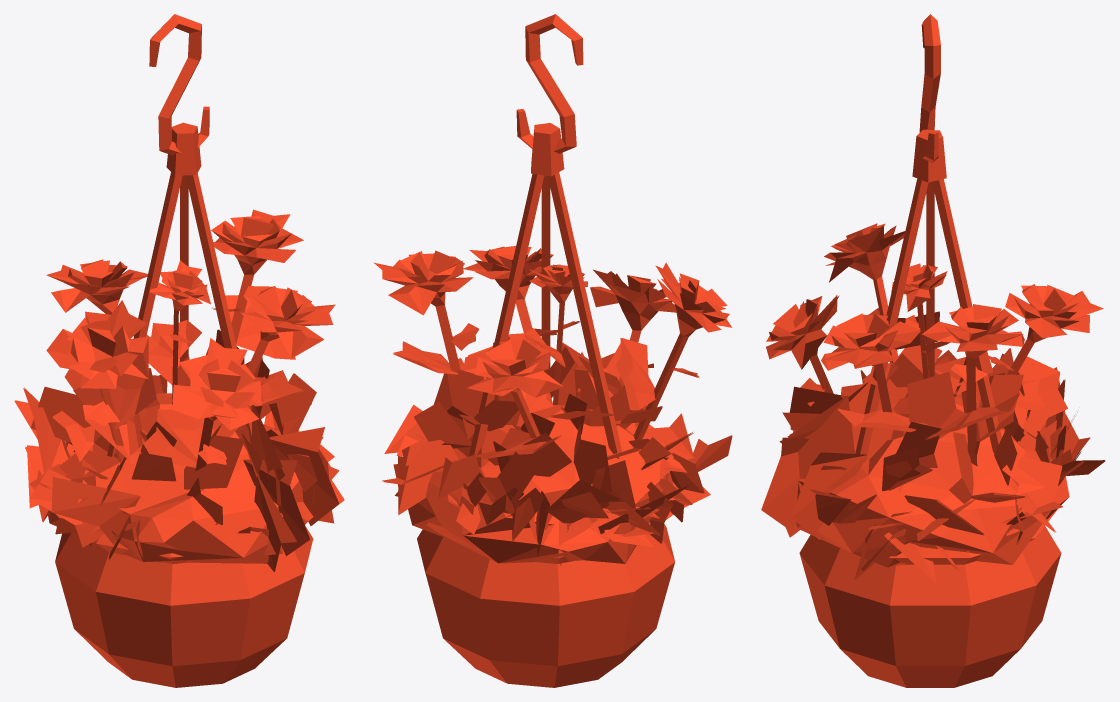
File: SM_Flowerpot_Hanging_A.fbx
3 renders of one model, left to right at view 1: azimuth 30°, elevation 25°; view 2: azimuth 150°, elevation 25°; view 3: azimuth 270°, elevation 25°, orthographic.
Parts seen in each view (by area): view 1: SM_Flowerpot_Hanging_A; view 2: SM_Flowerpot_Hanging_A; view 3: SM_Flowerpot_Hanging_A.
Part boxes in pixels (left/top/right/bottom): SM_Flowerpot_Hanging_A: left=14, top=14, right=344, bottom=687; SM_Flowerpot_Hanging_A: left=374, top=14, right=732, bottom=687; SM_Flowerpot_Hanging_A: left=761, top=14, right=1105, bottom=687.
Size of the model in its own units: 0.5795 by 1.23 by 0.6.
